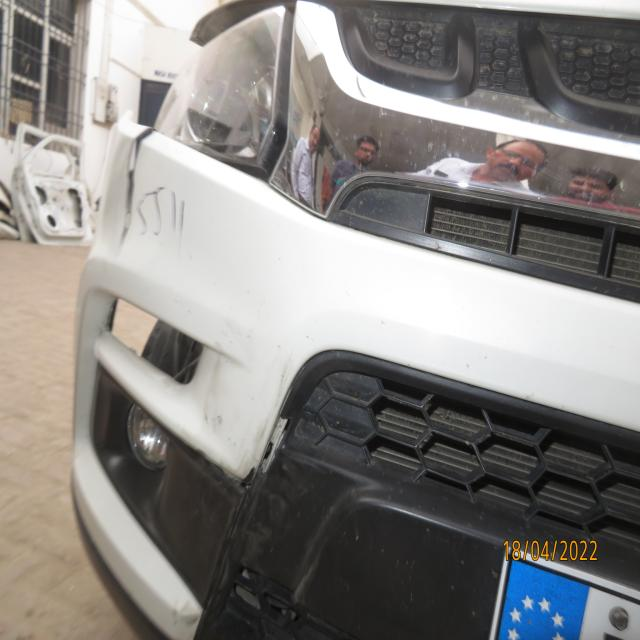damage: (87, 283, 219, 401), (114, 116, 172, 250), (248, 384, 306, 483)
